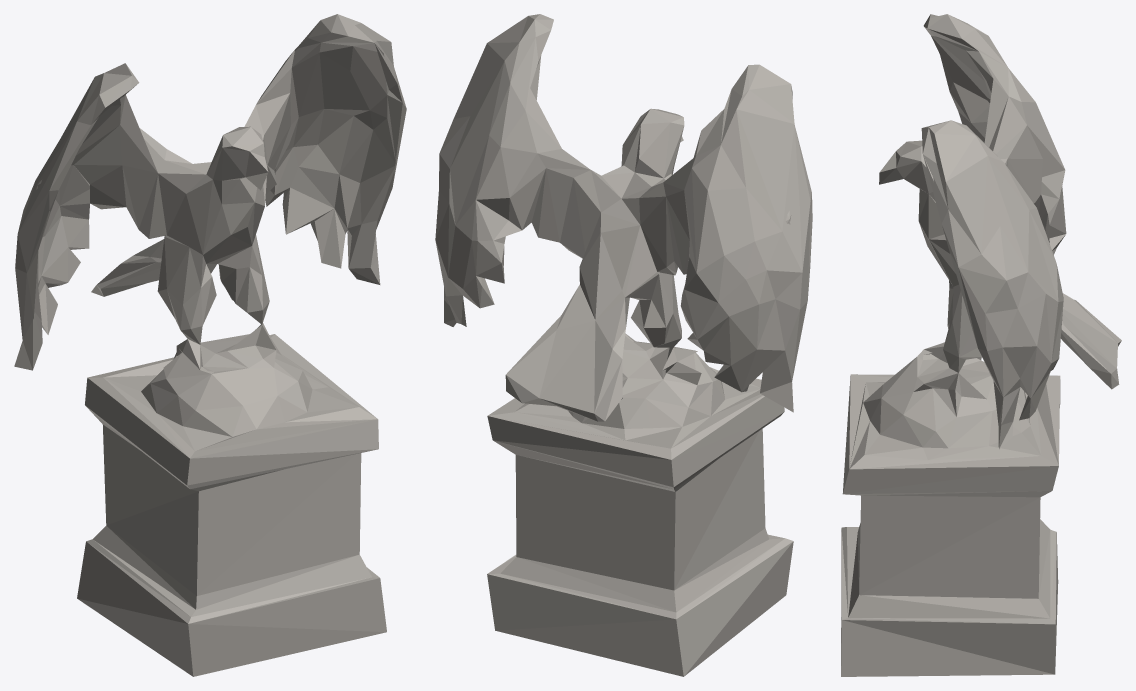
File: RG-Dungeon_Statue-02.fbx
3 views of the same model, side by side, from view 1: azimuth 30°, elevation 25°; view 2: azimuth 150°, elevation 25°; view 3: azimuth 270°, elevation 25° (orthographic). The views are drawn at different scales.
Visible parts, largest first — view 1: RG-Dungeon_Statue-02; view 2: RG-Dungeon_Statue-02; view 3: RG-Dungeon_Statue-02.
Boxes of the visible parts, x1,y1,x2,y2 form: RG-Dungeon_Statue-02: (14,14,406,676); RG-Dungeon_Statue-02: (435,14,812,676); RG-Dungeon_Statue-02: (841,14,1121,676).
Size of the model in its own units: 9.73 by 14.59 by 6.57.
